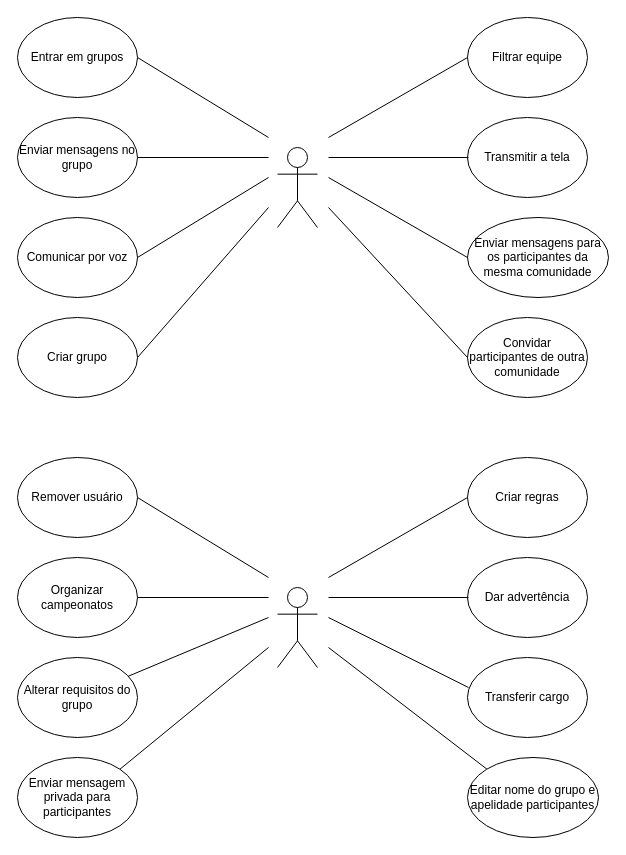
This 626x855 diagram has some shape labels left out. Each missing label, with the centre of its shape:
"Administrador" belongs at point (297, 627).
"Participante" belongs at point (297, 187).
